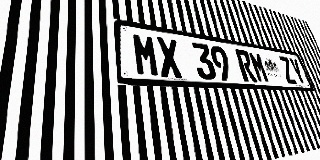3: (191, 42, 217, 80)
9: (209, 45, 233, 81)
M: (131, 33, 161, 77), (248, 51, 270, 83)
R: (234, 49, 258, 82)
X: (156, 36, 183, 78)
Y: (288, 57, 307, 85)
Z: (278, 56, 298, 84)
